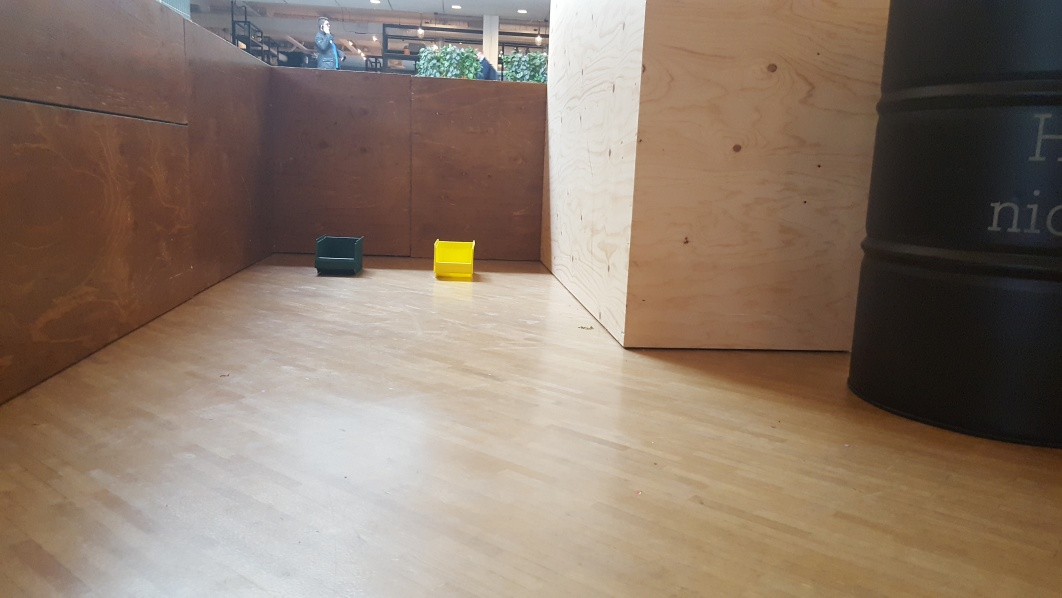tray: (424, 235, 485, 277), (311, 231, 365, 277)
